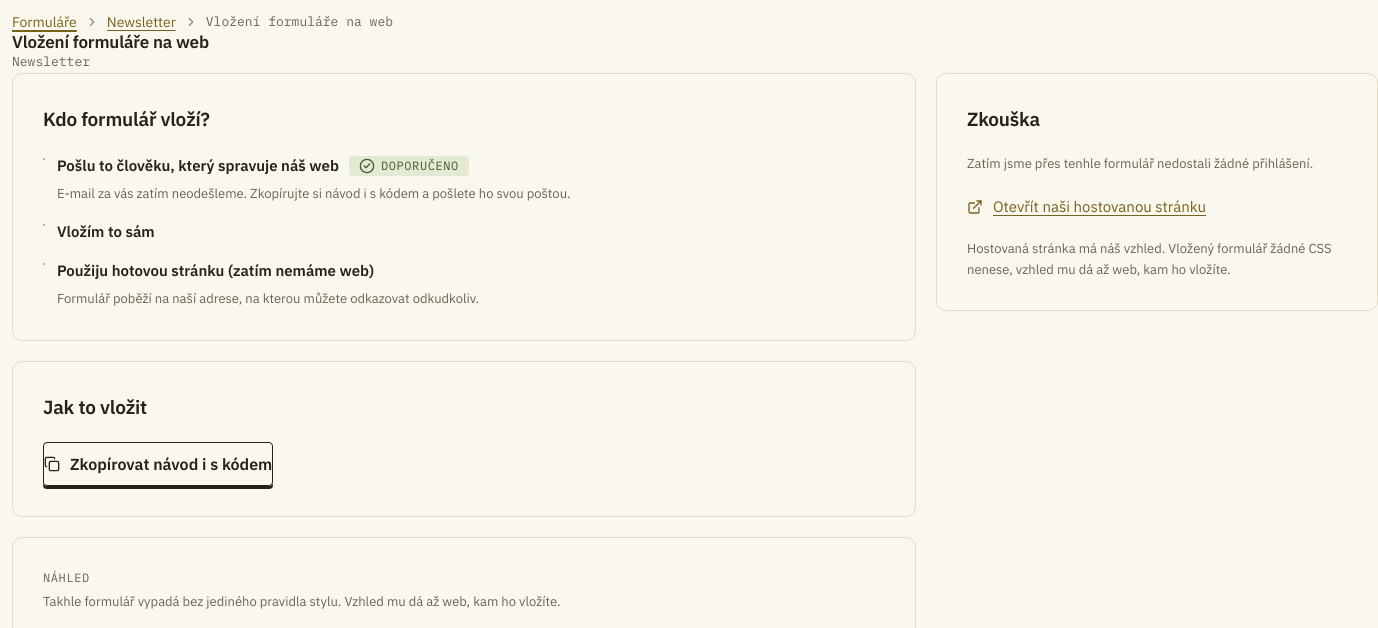
Test case: EmbedPanel › hotová stránka nabídne adresu, na kterou jde odkazovat
Click the 3rd radio button named "Použiju hotovou stránku" at {"x": 44, "y": 264}, box [43,263,45,265]
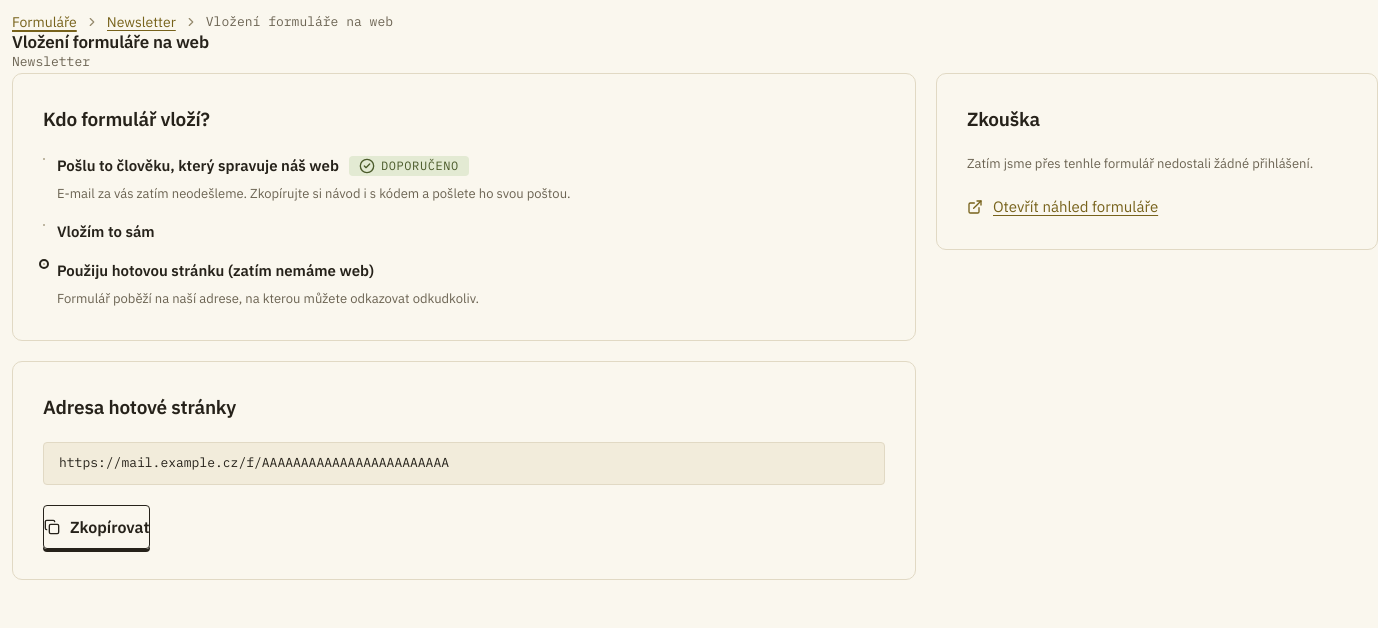
Check: the element with test id "embed-hosted" shows "https://mail.example.cz/f/AAAAAAAAAAAAAAAAAAAAAAAA", box [59,454,449,471]
